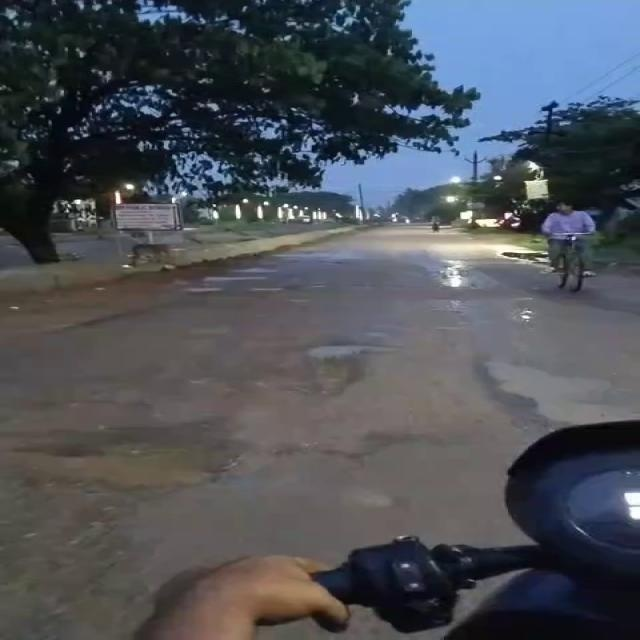pothole: (9, 442, 222, 500), (484, 362, 608, 396), (536, 400, 640, 420), (297, 345, 392, 365), (355, 484, 403, 510), (316, 365, 350, 395), (184, 324, 243, 338), (193, 272, 272, 282), (492, 249, 552, 261), (175, 284, 227, 296), (245, 286, 304, 296), (352, 329, 395, 339), (225, 266, 278, 274), (515, 308, 536, 322), (316, 257, 346, 266)
